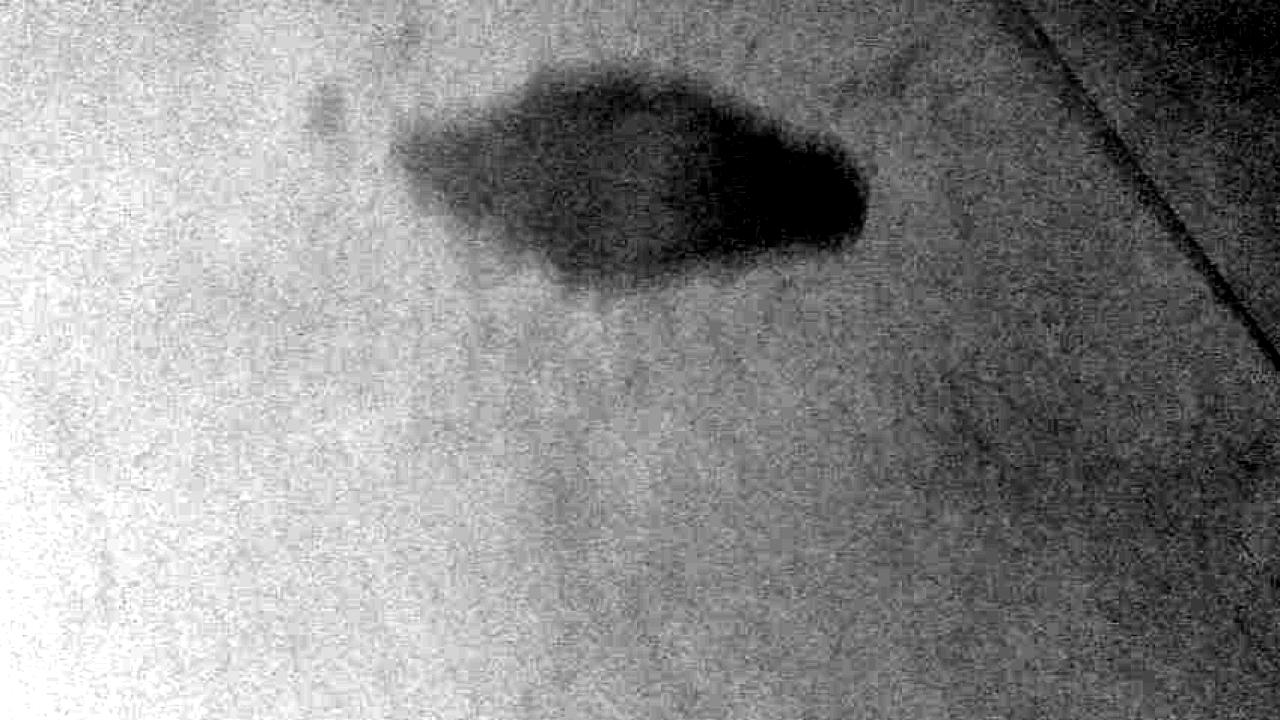drinks Stains: (373, 69, 877, 298)
